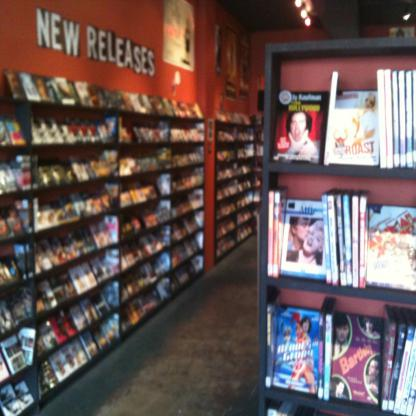book: (0, 110, 264, 416), (273, 290, 416, 416), (2, 70, 207, 118), (320, 190, 372, 288), (270, 88, 326, 164), (366, 204, 416, 288), (376, 65, 416, 170), (278, 195, 326, 282), (329, 90, 379, 165), (320, 68, 338, 167), (264, 394, 340, 416), (273, 182, 287, 278), (267, 181, 278, 280)
